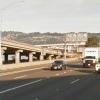Bridge: (5, 30, 65, 60)
